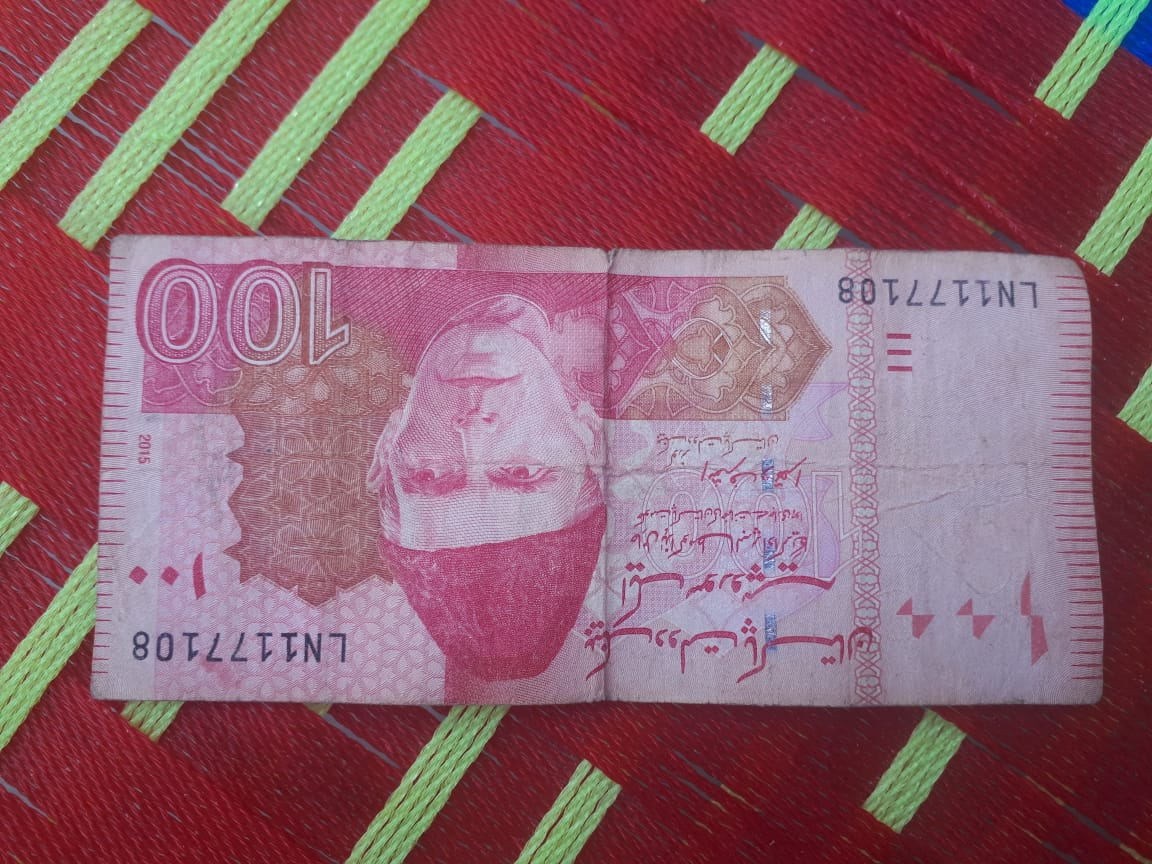100 rupee: (83, 226, 1116, 724)
